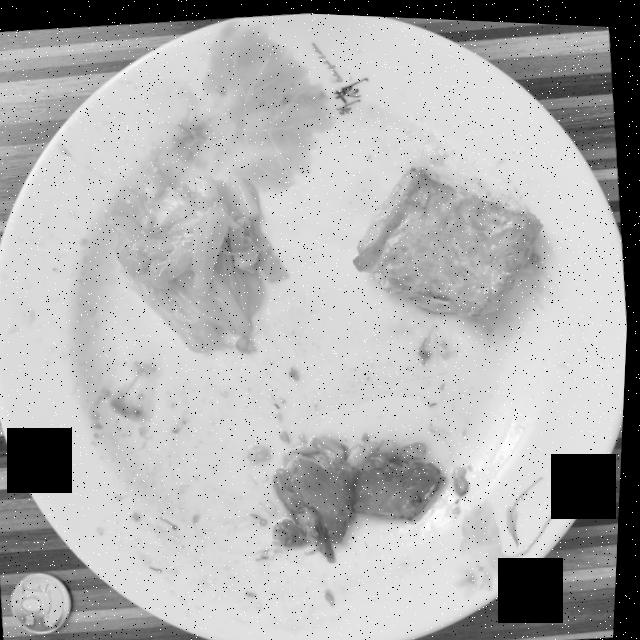Kabayaki sea bream fillet: (277, 431, 449, 558)
cabbage: (105, 166, 290, 349)
coin: (16, 572, 76, 633)
